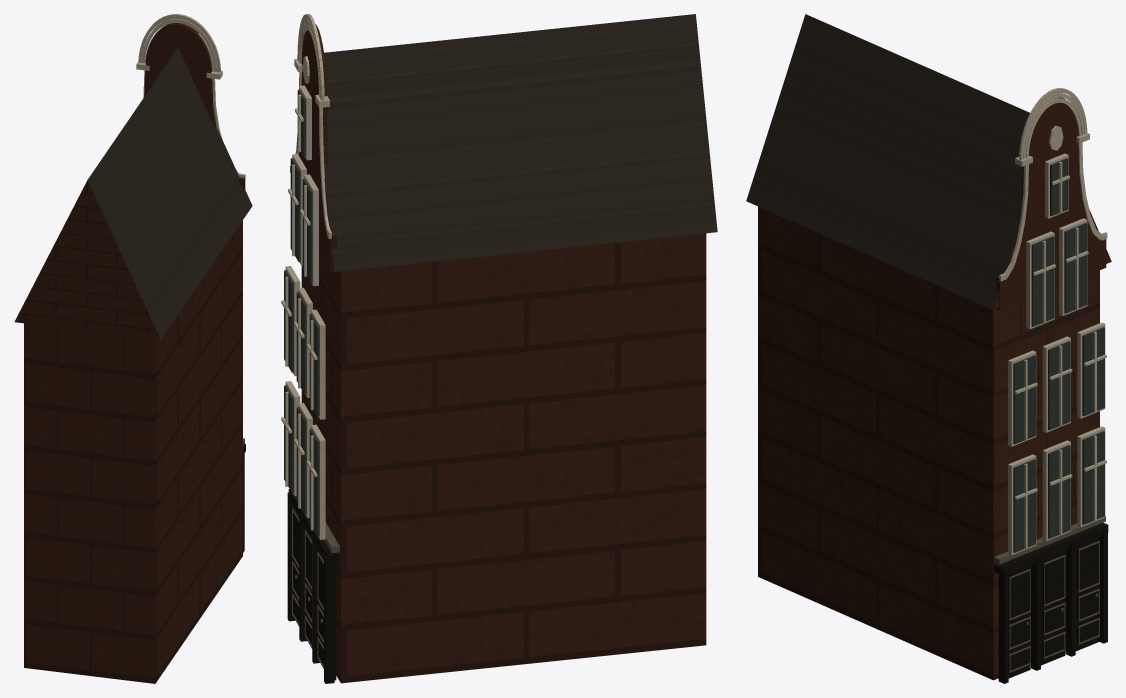
3 views of the same model, side by side, from view 1: azimuth 30°, elevation 25°; view 2: azimuth 150°, elevation 25°; view 3: azimuth 270°, elevation 25° (orthographic). The views are drawn at different scales.
Visible parts, largest first — view 1: oppert55-0, oppert55-1, oppert55-2; view 2: oppert55-0, oppert55-1, oppert55-2, oppert55-3, oppert55-4, oppert55-5; view 3: oppert55-0, oppert55-1, oppert55-3, oppert55-2, oppert55-4, oppert55-5.
Part boxes in pixels (left/top/right/bottom): oppert55-0: left=14, top=23, right=245, bottom=683; oppert55-1: left=87, top=48, right=252, bottom=339; oppert55-2: left=136, top=14, right=245, bottom=179; oppert55-0: left=290, top=24, right=706, bottom=683; oppert55-1: left=324, top=14, right=717, bottom=271; oppert55-2: left=281, top=14, right=331, bottom=539; oppert55-3: left=284, top=89, right=319, bottom=536; oppert55-4: left=287, top=489, right=339, bottom=683; oppert55-5: left=292, top=508, right=339, bottom=668; oppert55-0: left=758, top=97, right=1111, bottom=680; oppert55-1: left=746, top=14, right=1029, bottom=309; oppert55-3: left=1013, top=158, right=1104, bottom=552; oppert55-2: left=999, top=88, right=1107, bottom=555; oppert55-4: left=994, top=522, right=1108, bottom=683; oppert55-5: left=994, top=516, right=1105, bottom=672.
Bounding box in the file's own units: 10.93 × 18.57 × 10.77.
Materials: 6 (6 with a texture image).
